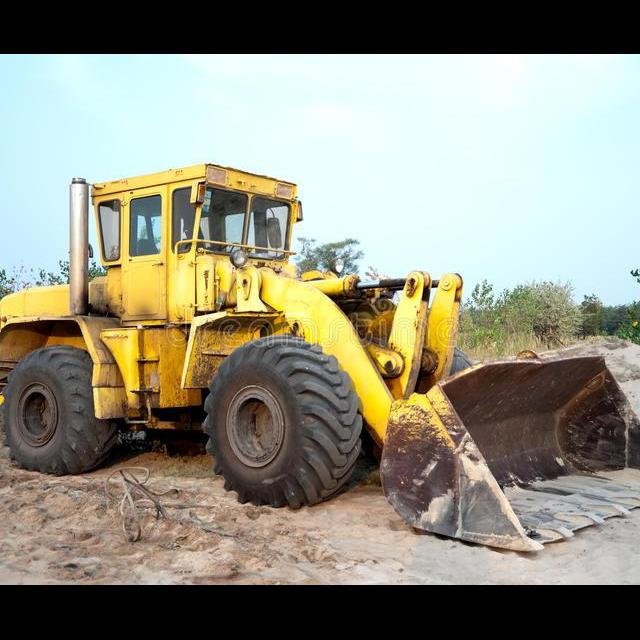wheel loader: (0, 150, 640, 558)
